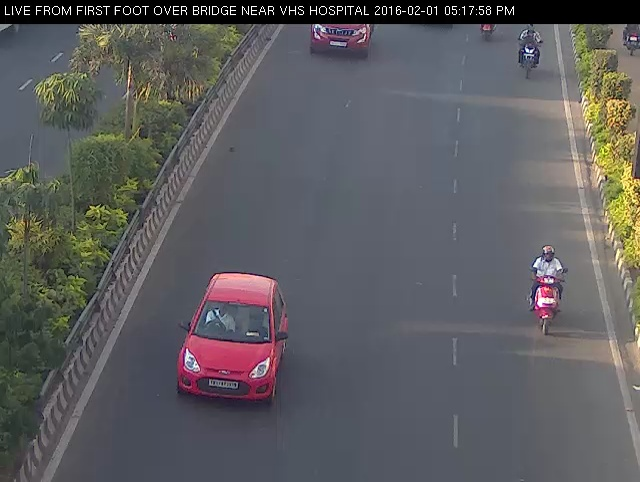Car: (167, 261, 300, 413), (298, 20, 385, 63)
Person: (526, 239, 573, 339), (514, 20, 545, 86)
